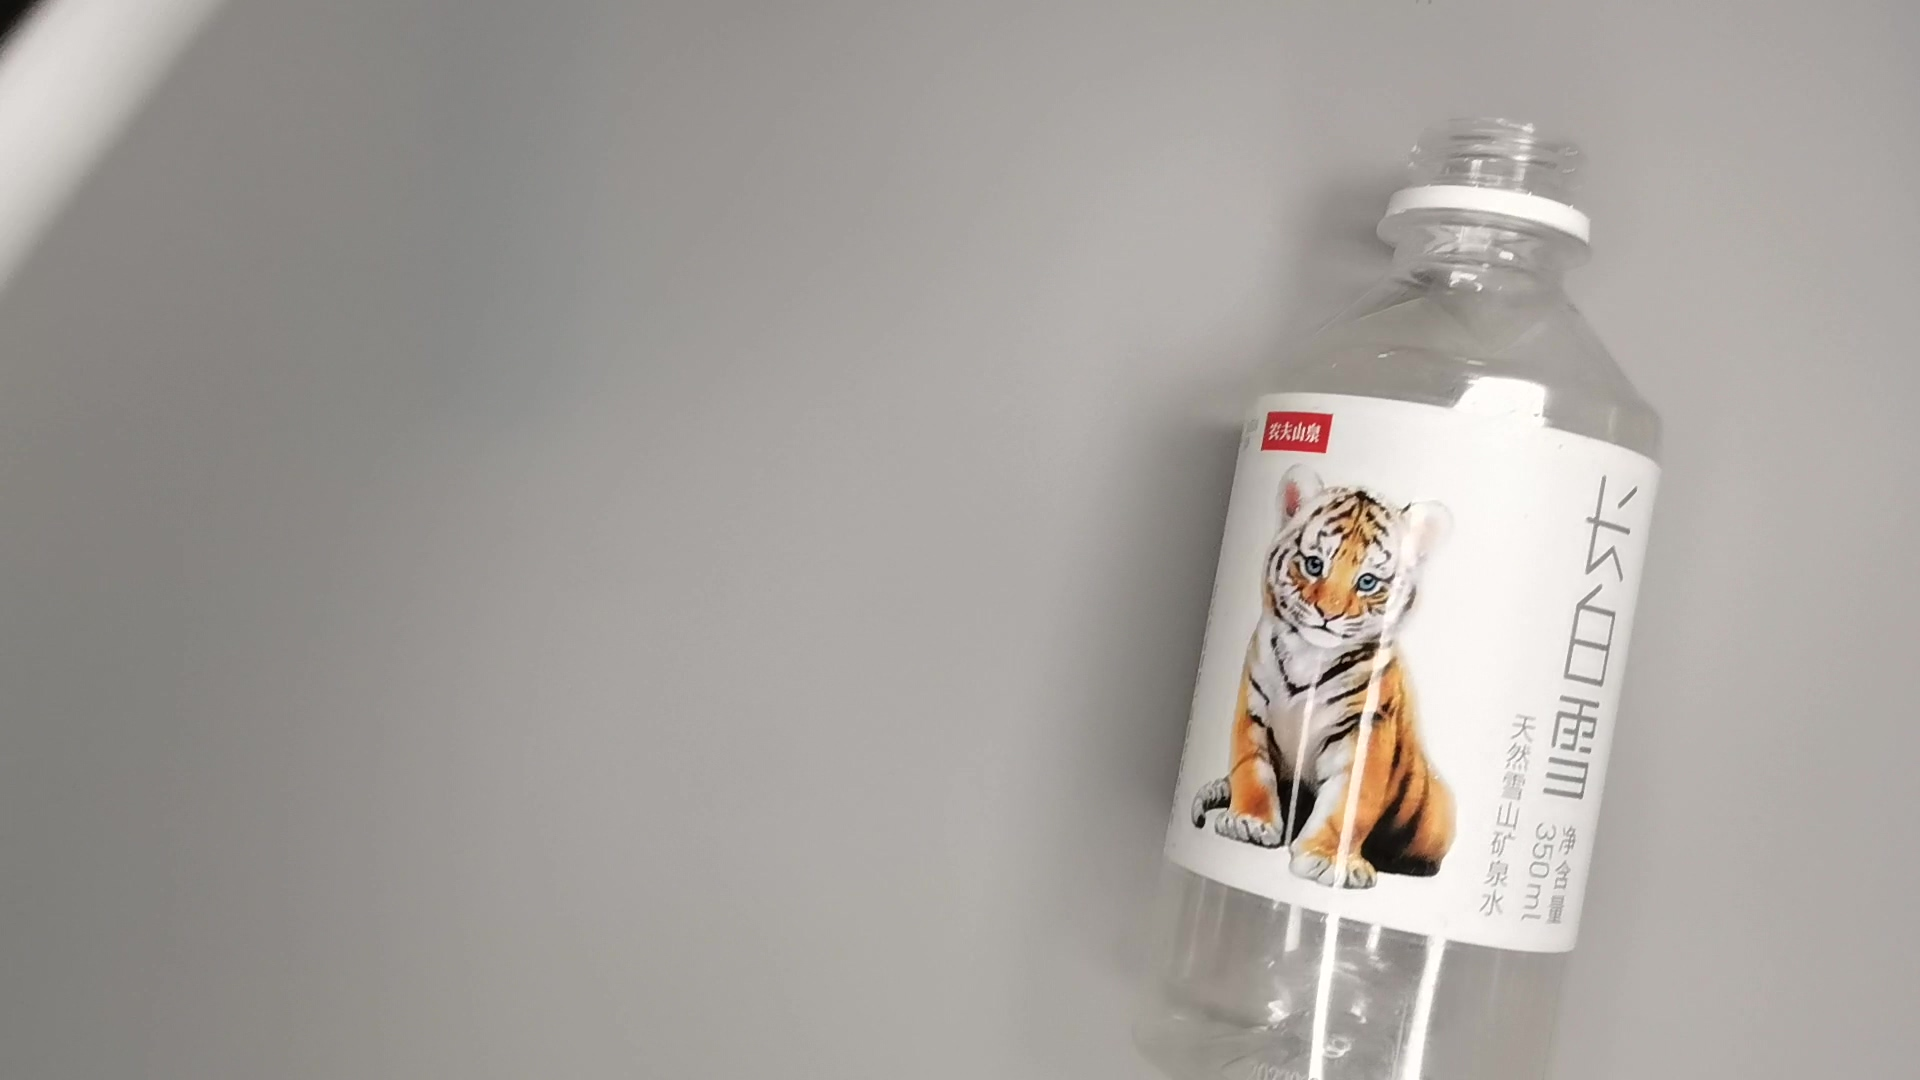bottle: (1138, 105, 1677, 1080)
